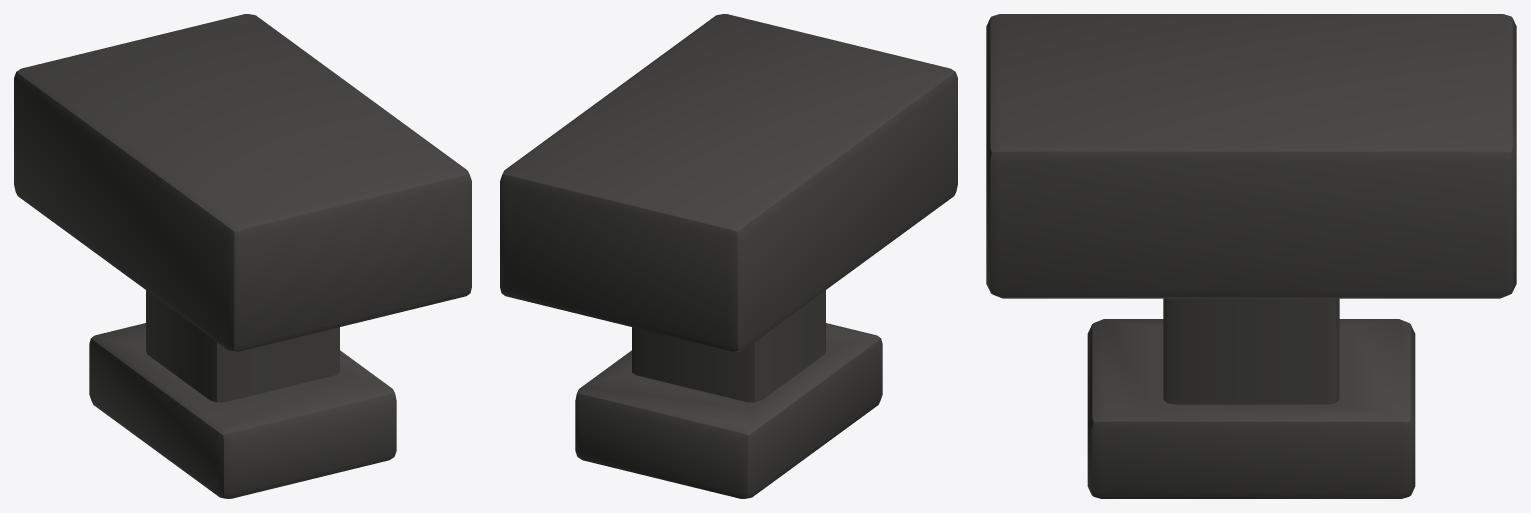
The model's file is Anvil.fbx.
The picture shows the model from 3 angles, left to right: view 1: azimuth 30°, elevation 25°; view 2: azimuth 150°, elevation 25°; view 3: azimuth 270°, elevation 25°; orthographic projection. The views are drawn at different scales.
Parts seen in each view (by area): view 1: Anvil; view 2: Anvil; view 3: Anvil.
Part boxes in pixels (<box>): Anvil: <box>14,14,471,498</box>; Anvil: <box>500,14,957,498</box>; Anvil: <box>986,14,1516,498</box>.
Size of the model in its own units: 74.39 by 91.82 by 118.
